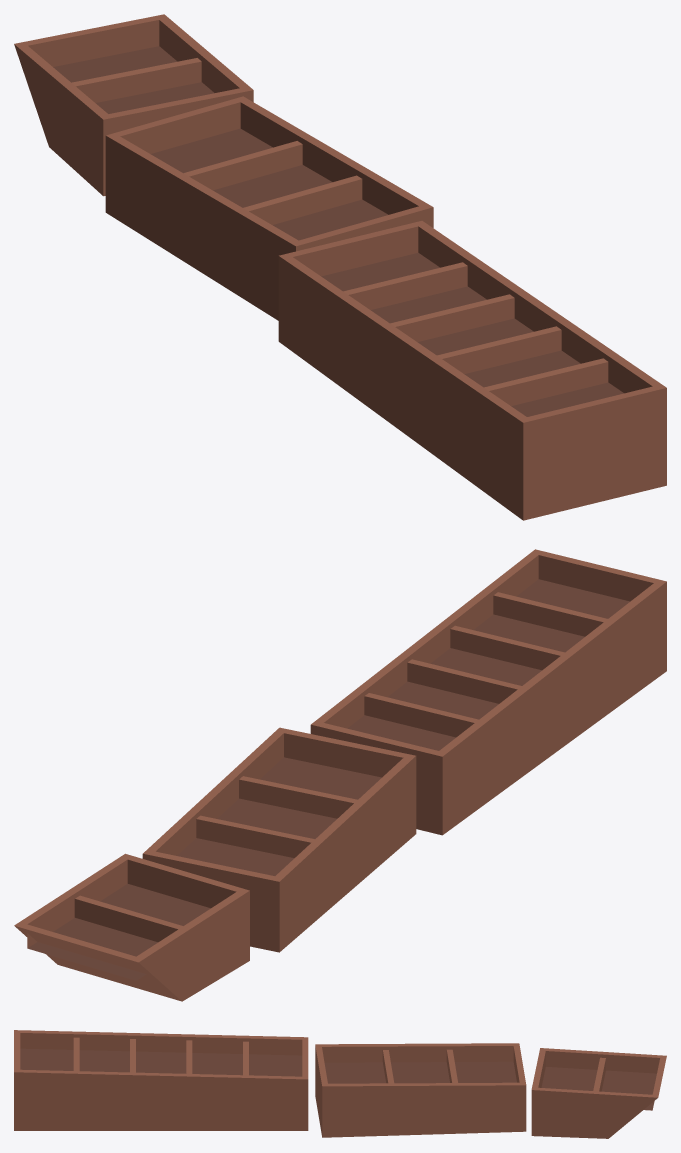
Rendered from niagara-iron-scow.glb.
3 views of the same model, one above another, from view 1: azimuth 30°, elevation 25°; view 2: azimuth 150°, elevation 25°; view 3: azimuth 270°, elevation 25° (orthographic). The views are drawn at different scales.
Visible parts, largest first — view 1: Niagara Scow; view 2: Niagara Scow; view 3: Niagara Scow.
Boxes of the visible parts, bbox=[...] form: Niagara Scow: bbox=[14, 14, 666, 520]; Niagara Scow: bbox=[14, 549, 666, 1001]; Niagara Scow: bbox=[14, 1030, 666, 1138].
Bounding box in the file's own units: 4.91 × 2.6 × 26.16.
